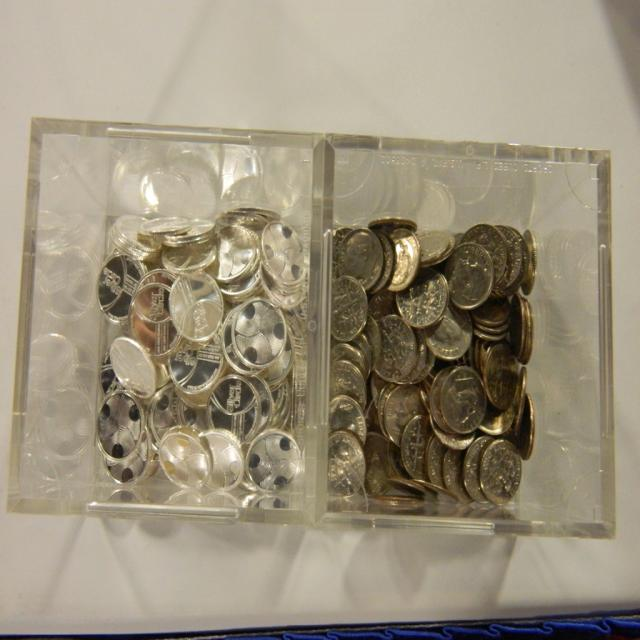Coin: (330, 146, 600, 518)
